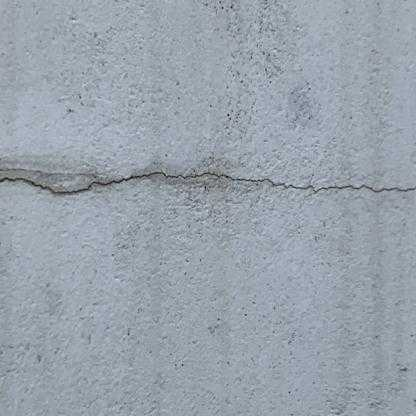crack: (0, 170, 415, 196)
